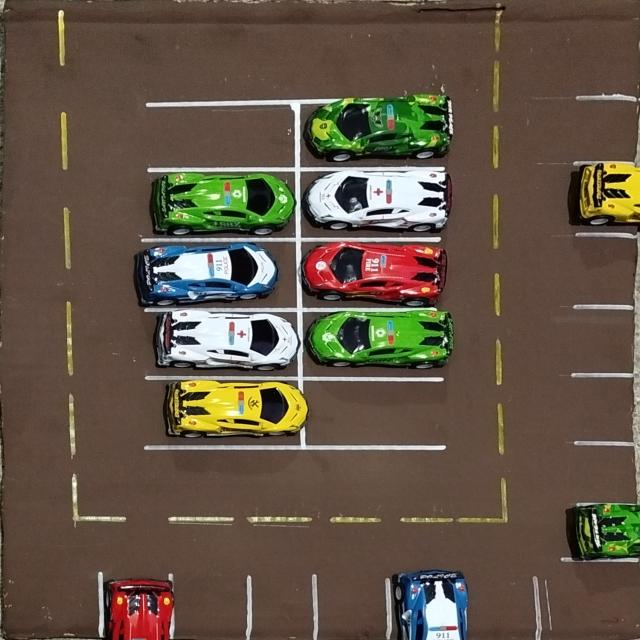libre: (300, 377, 444, 449), (146, 104, 298, 169), (2, 566, 102, 640), (173, 568, 249, 640), (315, 570, 390, 640), (249, 564, 315, 640), (467, 570, 540, 638), (575, 304, 640, 376), (573, 375, 640, 443), (577, 234, 640, 305), (576, 442, 640, 507), (581, 99, 640, 162)
no_estacionarse: (544, 561, 640, 640)
ocupado: (144, 378, 304, 448), (144, 239, 300, 310), (143, 309, 298, 379), (302, 237, 444, 310), (299, 310, 449, 379), (146, 170, 298, 237), (300, 168, 449, 236), (298, 100, 443, 168), (390, 565, 469, 640), (102, 568, 172, 640), (576, 161, 640, 233), (568, 503, 640, 559)
